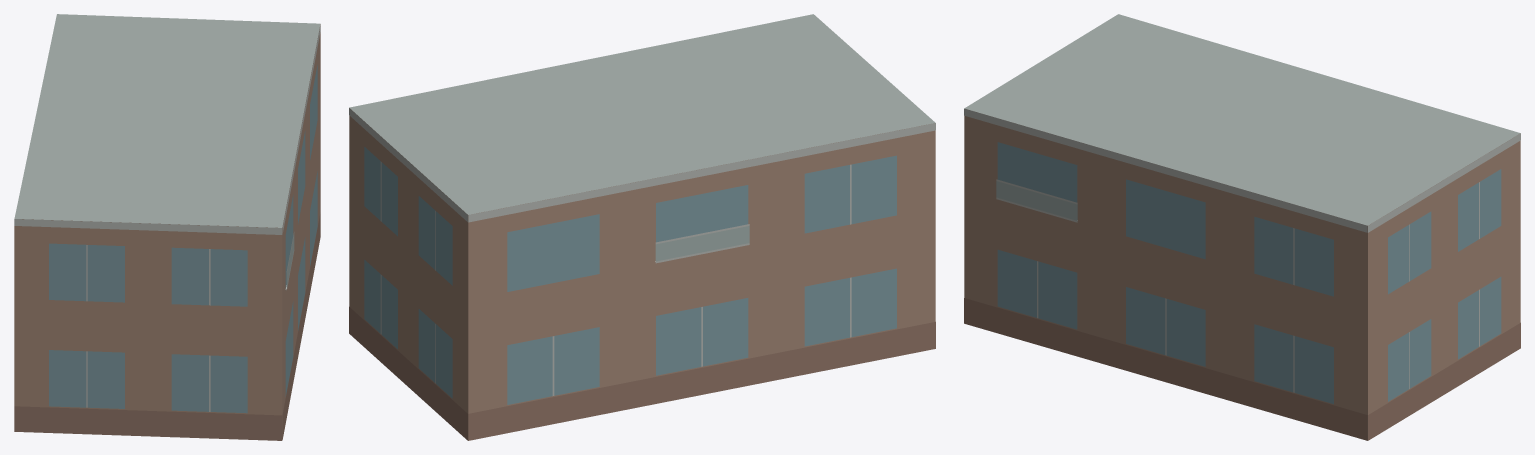
The model's file is survey-upis-32962308.glb.
3 views of the same model, side by side, from view 1: azimuth 30°, elevation 25°; view 2: azimuth 150°, elevation 25°; view 3: azimuth 270°, elevation 25° (orthographic). The views are drawn at different scales.
Visible parts, largest first — view 1: survey-upis-32962308.tmp; view 2: survey-upis-32962308.tmp; view 3: survey-upis-32962308.tmp.
Boxes of the visible parts, x1,y1,x2,y2 form: survey-upis-32962308.tmp: [14, 14, 320, 440]; survey-upis-32962308.tmp: [349, 14, 935, 440]; survey-upis-32962308.tmp: [964, 14, 1520, 440].
Size of the model in its own units: 15.42 by 7.3 by 17.13.
